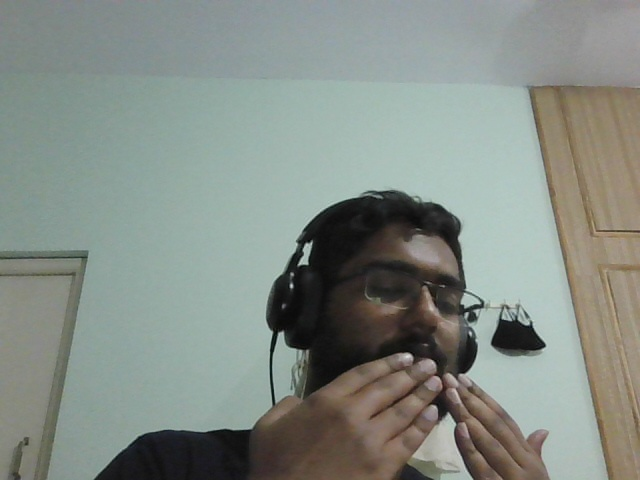Thank You: (237, 353, 574, 480)
